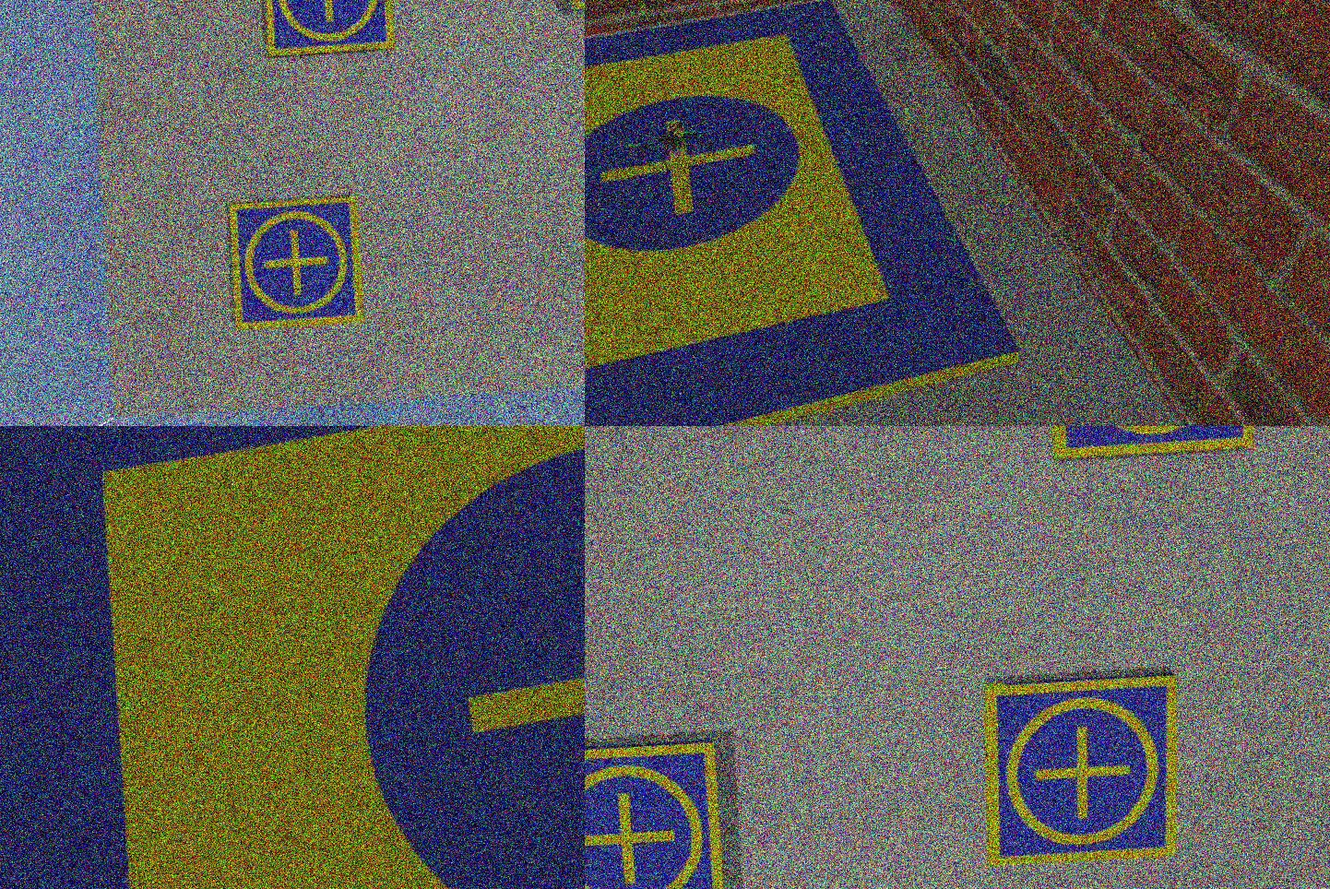large_base: (1, 426, 585, 889), (585, 1, 1038, 426)
small_base: (976, 670, 1191, 875), (585, 740, 730, 889), (229, 196, 371, 330), (262, 1, 396, 61)
